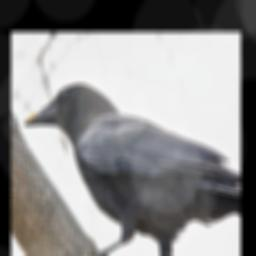Crow: (23, 83, 240, 256)
